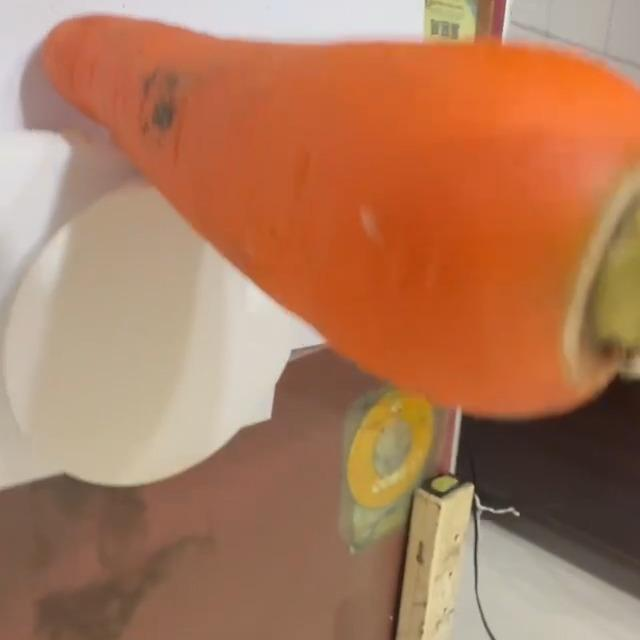carrot: (46, 14, 640, 417)
